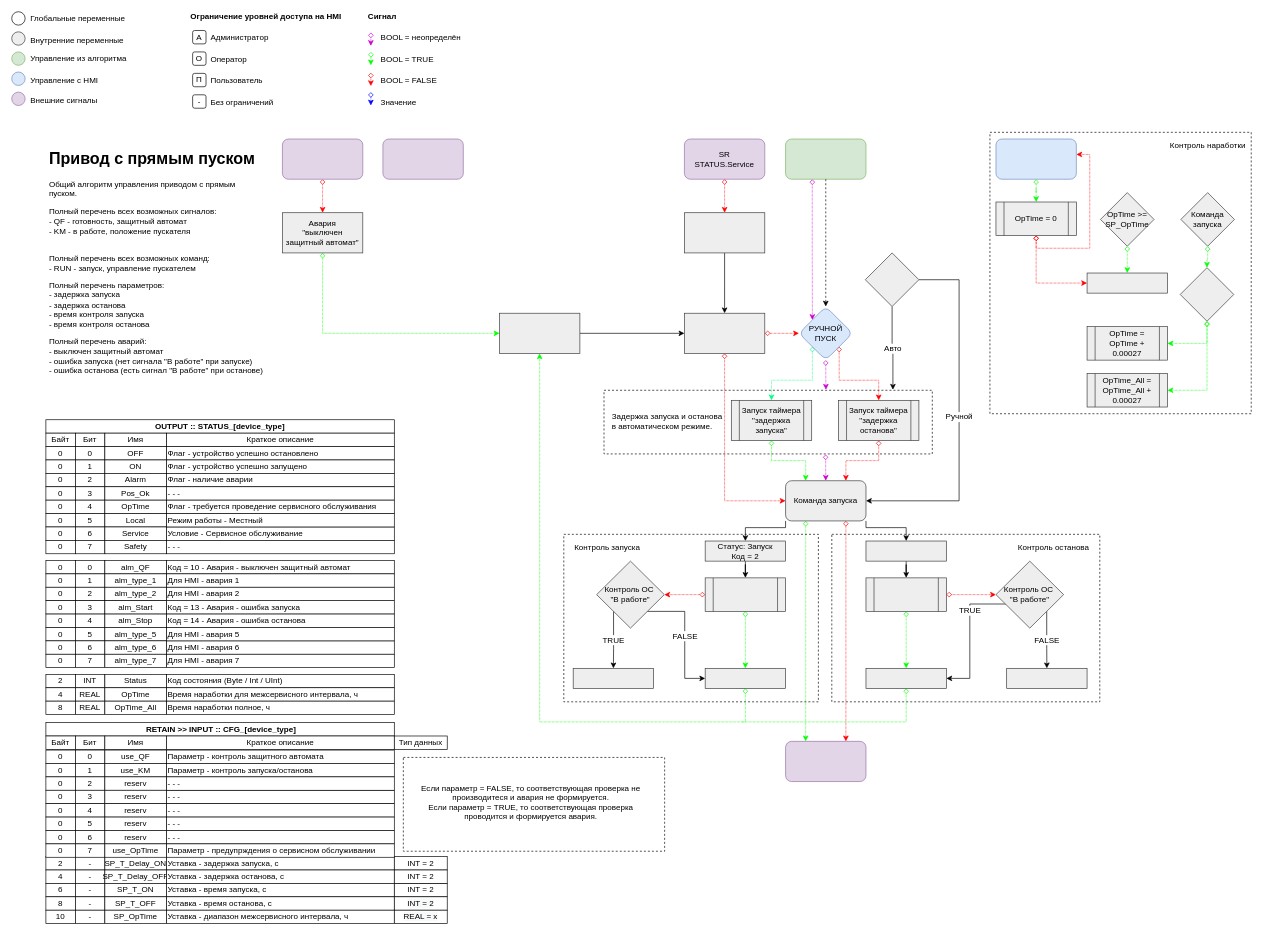
Some shapes in this 1274 by 935 pixel diagram are drawn without their labels. Each missing label, with the centre of its shape:
CMD.ResetOpTime: the point at 1035,158
KM Сигнал ОС "В работе": the point at 422,158
pulse_1s: the point at 1207,294
QF STATUS.alm_QF: the point at 322,158
RUN: the point at 825,761
STATUS.OpTime: the point at 1126,282
Авария общая STATUS.Alarm: the point at 539,333
АВТО ПУСК: the point at 825,158
Запуск таймера "время запуска": the point at 745,594
Запуск таймера "время останова": the point at 905,594
Отключение устройства: the point at 724,333
Режим работы: the point at 892,279
Режим работы: Сервис: the point at 724,232
Статус: Авария при запуске: the point at 745,678
Статус: Авария при останове: the point at 905,678
Статус: В работе Код = 1: the point at 613,678
Статус: Выключено Код = 0: the point at 1046,678
Статус: Отсанов Код = 3: the point at 905,550
